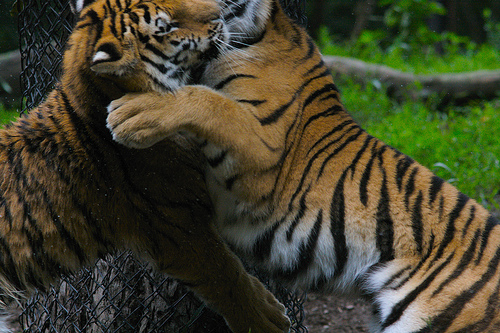Tigre: (43, 9, 221, 276)
